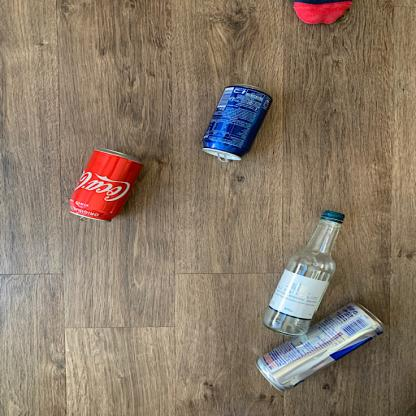trash: (255, 300, 392, 394), (264, 210, 350, 333), (64, 146, 145, 228), (198, 82, 273, 168)
